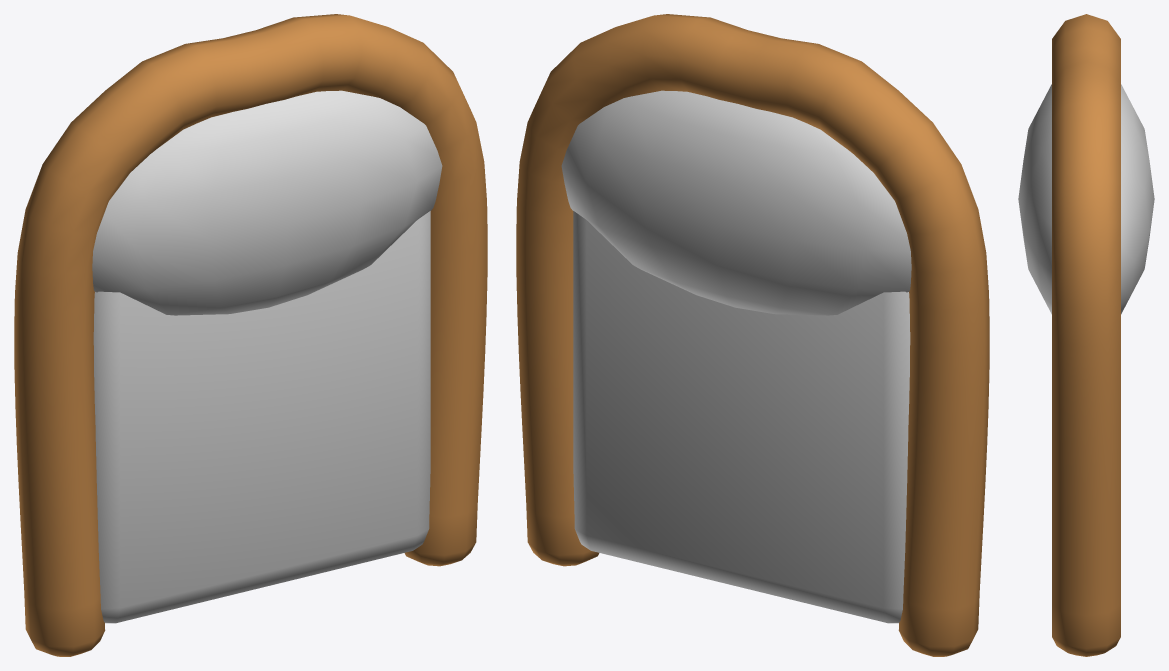
File: toast.glb
3 views of the same model, side by side, from view 1: azimuth 30°, elevation 25°; view 2: azimuth 150°, elevation 25°; view 3: azimuth 270°, elevation 25° (orthographic). The views are drawn at different scales.
Visible parts, largest first — view 1: toast-zustand, toast-matt; view 2: toast-zustand, toast-matt; view 3: toast-matt, toast-zustand.
Part boxes in pixels (box(x1,y1,x2,y2)): toast-zustand: box(92, 90, 442, 623); toast-matt: box(14, 14, 487, 656); toast-zustand: box(561, 90, 911, 623); toast-matt: box(516, 14, 989, 656); toast-matt: box(1052, 14, 1120, 656); toast-zustand: box(1018, 84, 1154, 314).
Size of the model in its own units: 0.3745 by 0.4433 by 0.1056.
